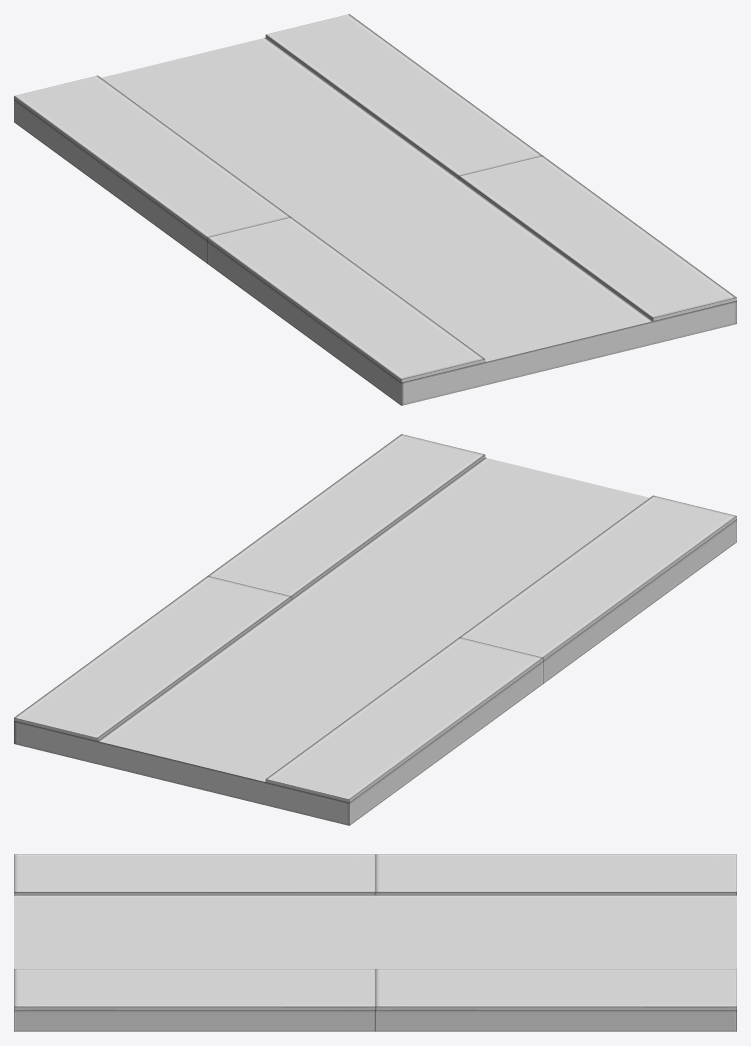
File: Road-05.fbx
3 views of the same model, one above another, from view 1: azimuth 30°, elevation 25°; view 2: azimuth 150°, elevation 25°; view 3: azimuth 270°, elevation 25° (orthographic). The views are drawn at different scales.
Visible parts, largest first — view 1: Road_05; view 2: Road_05; view 3: Road_05.
Part boxes in pixels (x1,y1,x2,y2): Road_05: (14,14,736,405); Road_05: (14,434,736,825); Road_05: (14,854,736,1031).
Bounding box in the file's own units: 4 × 0.3 × 8.
